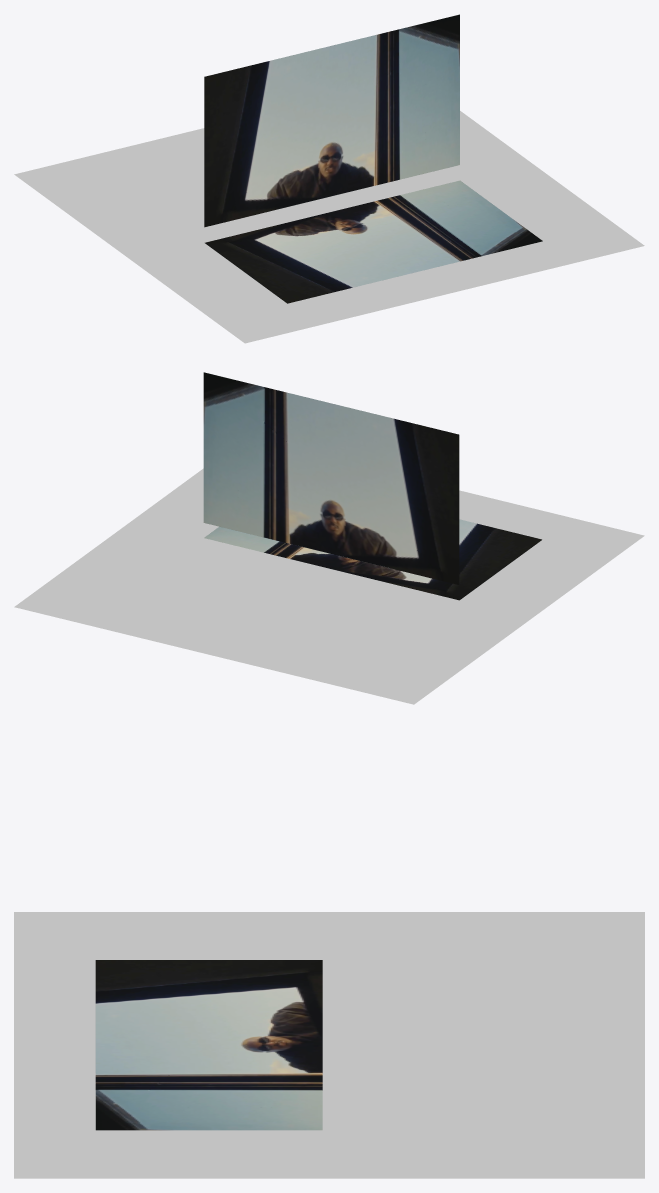
The picture shows the model from 3 angles, top to bottom: view 1: azimuth 30°, elevation 25°; view 2: azimuth 150°, elevation 25°; view 3: azimuth 270°, elevation 25°; orthographic projection. The views are drawn at different scales.
Parts seen in each view (by area): view 1: GROUND, SCREEN, REFLECTION; view 2: GROUND, SCREEN, REFLECTION; view 3: GROUND, REFLECTION.
Boxes of the visible parts, bbox=[...] form: GROUND: bbox=[14, 111, 644, 343]; SCREEN: bbox=[204, 14, 459, 227]; REFLECTION: bbox=[205, 180, 542, 303]; GROUND: bbox=[14, 468, 644, 704]; SCREEN: bbox=[203, 372, 459, 584]; REFLECTION: bbox=[204, 519, 541, 600]; GROUND: bbox=[14, 912, 644, 1178]; REFLECTION: bbox=[95, 960, 322, 1130].
Size of the model in its own units: 5 by 1.99 by 5.
Materials: 2 (1 with a texture image).
